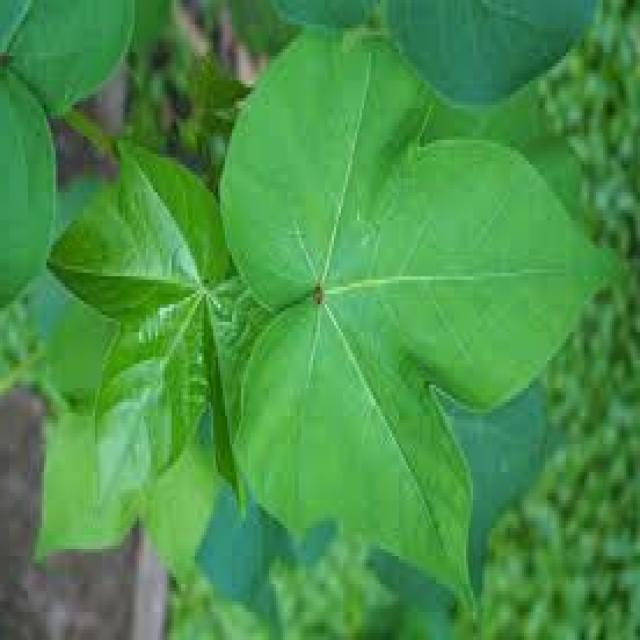Healthy Leaf: (18, 54, 575, 638)
